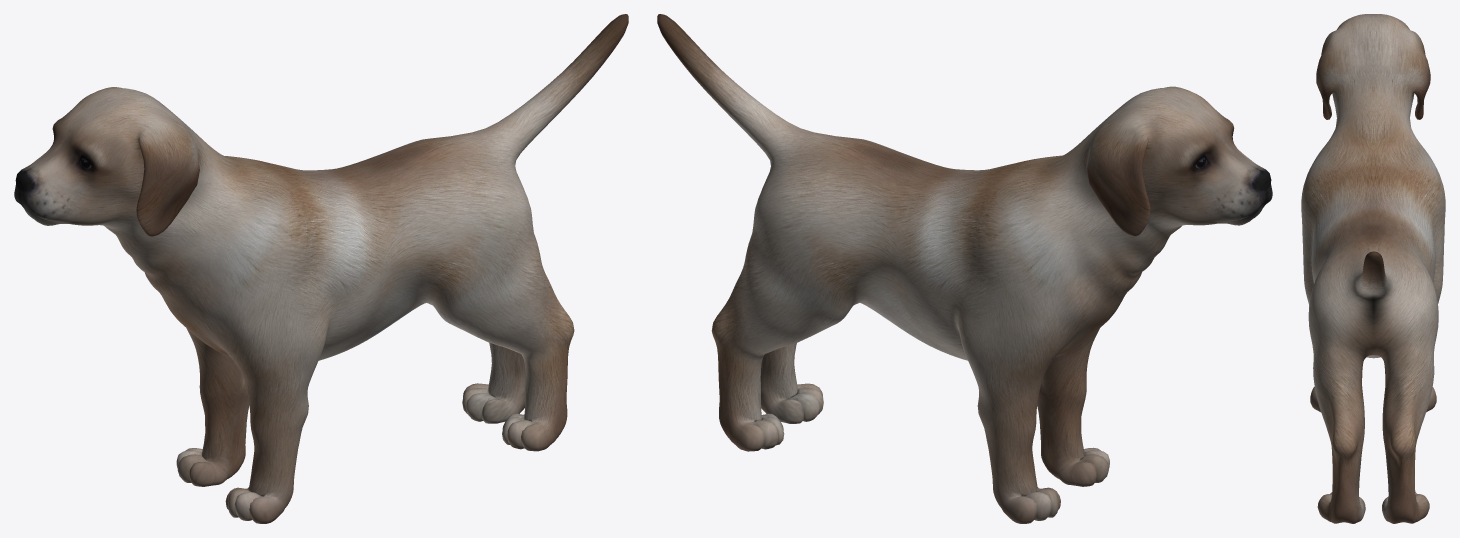
The picture shows the model from 3 angles, left to right: view 1: azimuth 30°, elevation 25°; view 2: azimuth 150°, elevation 25°; view 3: azimuth 270°, elevation 25°; orthographic projection. The views are drawn at different scales.
Parts seen in each view (by area): view 1: 037_Vray; view 2: 037_Vray; view 3: 037_Vray.
Boxes of the visible parts, x1,y1,x2,y2 form: 037_Vray: (14, 14, 628, 523); 037_Vray: (657, 14, 1272, 523); 037_Vray: (1301, 14, 1445, 523).
Size of the model in its own units: 36.28 by 24.43 by 9.28.
1 material, 1 textured.
